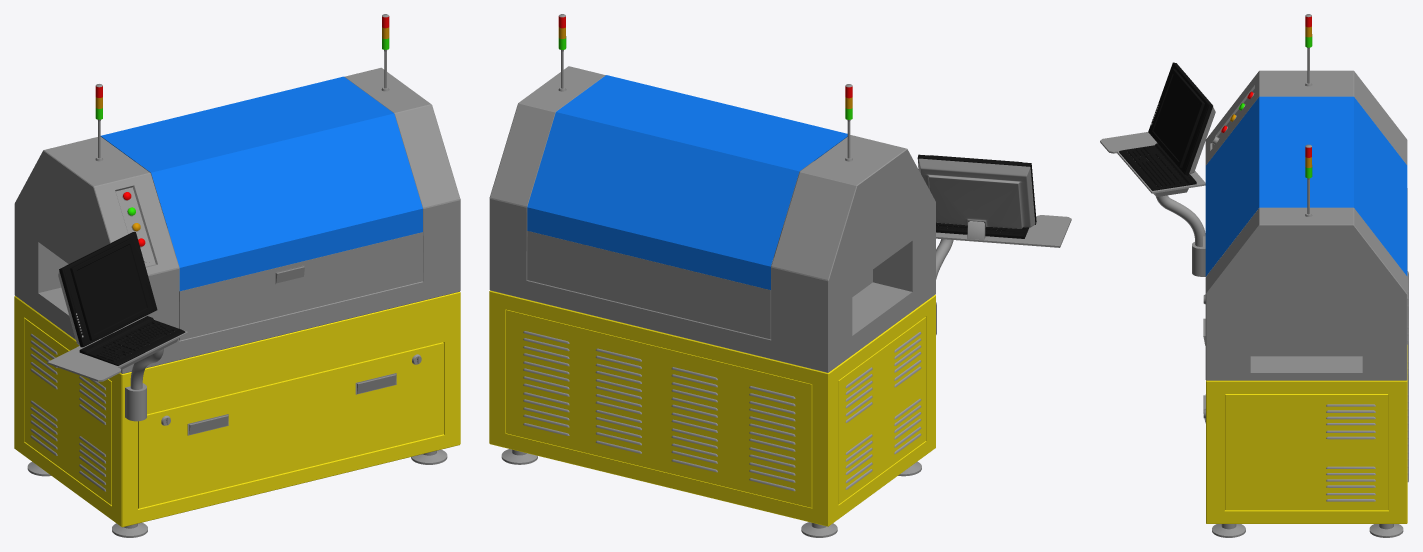
Rendered from meca01.FBX.
The picture shows the model from 3 angles, left to right: view 1: azimuth 30°, elevation 25°; view 2: azimuth 150°, elevation 25°; view 3: azimuth 270°, elevation 25°; orthographic projection. The views are drawn at different scales.
Visible parts, largest first — view 1: Sphere001; view 2: Sphere001; view 3: Sphere001.
Boxes of the visible parts, box(x1,y1,x2,y2) form: Sphere001: box(14, 14, 460, 537); Sphere001: box(489, 14, 1071, 537); Sphere001: box(1100, 14, 1408, 537).
Bounding box in the file's own units: 252 × 226 × 164.
